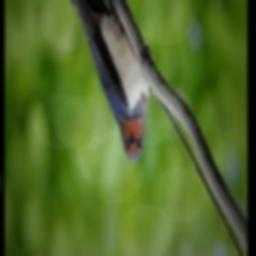Swallow: (30, 0, 150, 163)
